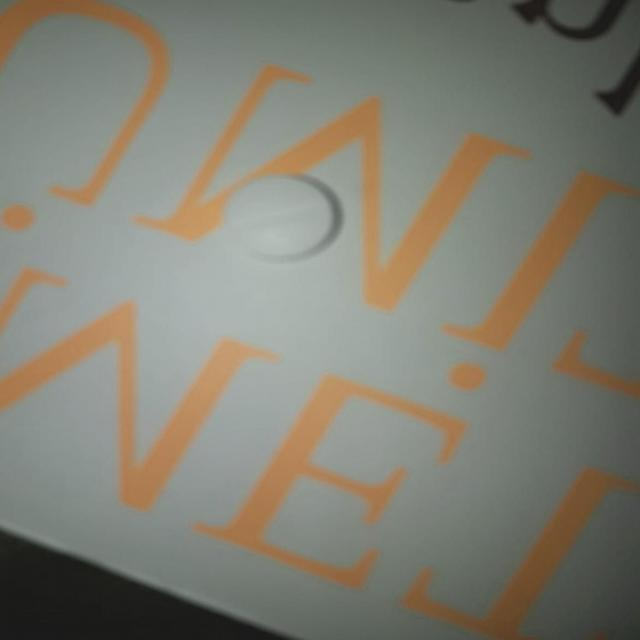pill: (207, 170, 347, 262)
